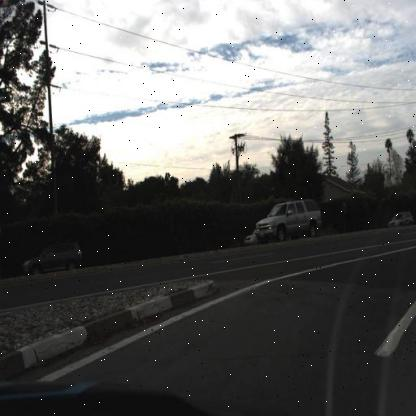car: (254, 197, 324, 243), (21, 242, 84, 277), (386, 205, 413, 232), (241, 224, 259, 247)
